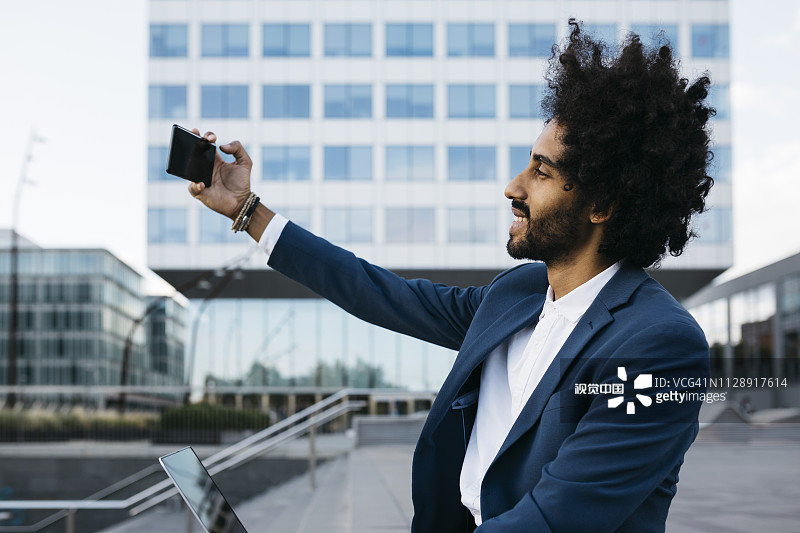taking photos: (153, 109, 278, 226)
